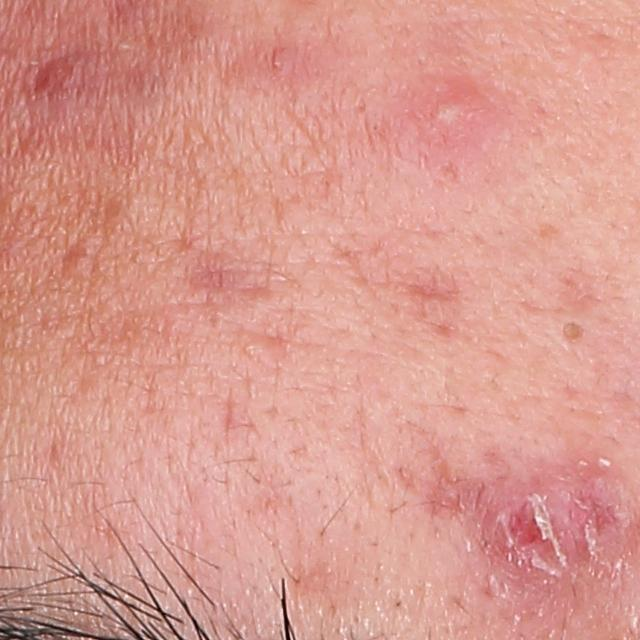comedo: (236, 332, 284, 370), (554, 316, 592, 343)
